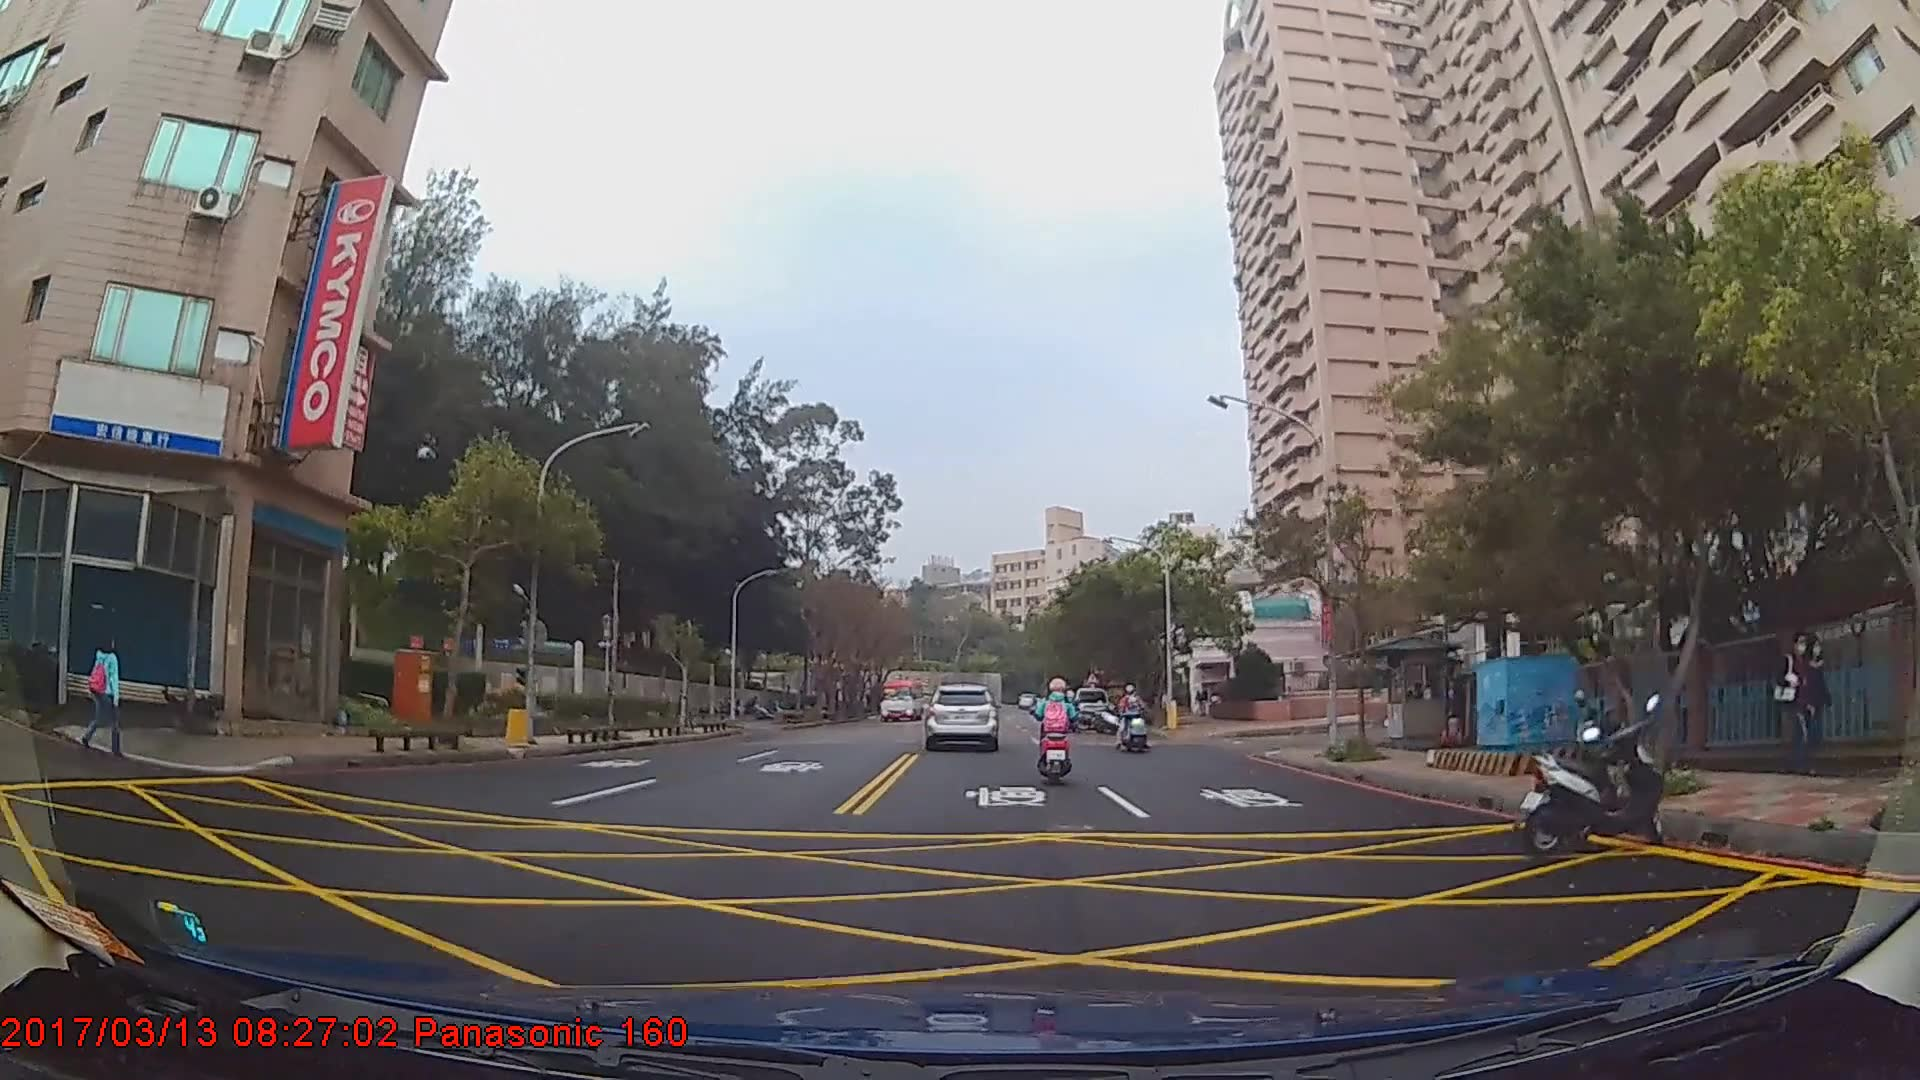pedestrian: (1774, 634, 1818, 778), (82, 630, 126, 760), (1793, 640, 1835, 777)
rider: (1032, 675, 1077, 788), (1116, 682, 1152, 748)
vehicle: (922, 682, 997, 747), (878, 674, 925, 720)
